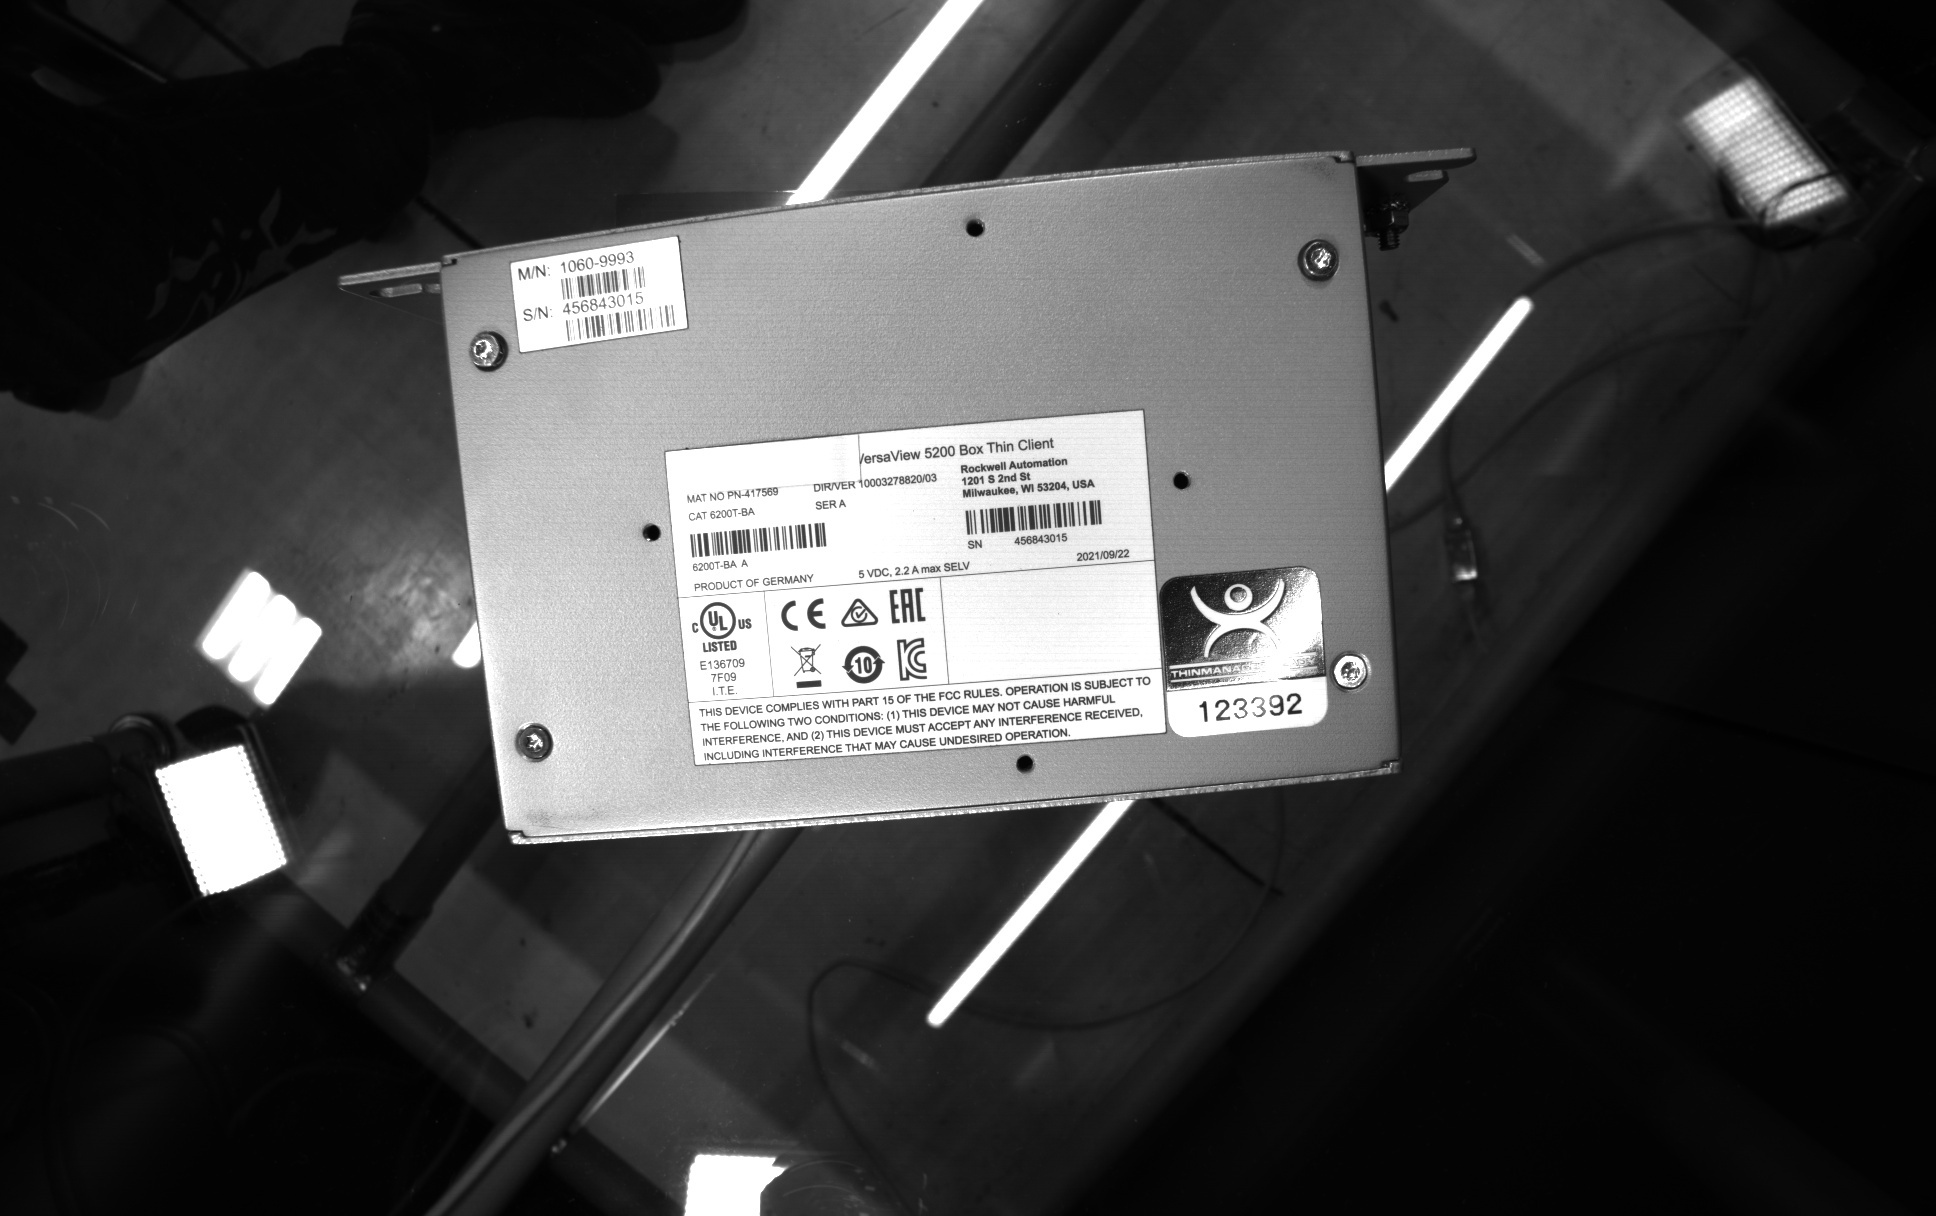Barcode: (960, 496, 1107, 542), (684, 520, 832, 565), (560, 301, 679, 346), (553, 261, 653, 303)
CamTop: (426, 137, 1413, 857)
Label_Seriennummer: (649, 396, 1177, 776)
Loch_Montage: (628, 506, 668, 552), (1004, 747, 1049, 785), (1161, 461, 1201, 503), (955, 207, 996, 247)
Schraube: (504, 713, 556, 769), (1327, 646, 1377, 700)
Schraube_halb: (1287, 234, 1343, 287), (462, 322, 511, 374)
